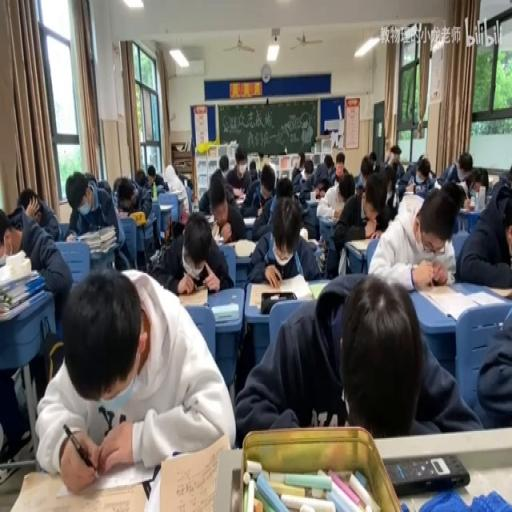calculator: (154, 432, 231, 512), (6, 468, 148, 510), (416, 283, 498, 320), (249, 273, 312, 307), (178, 283, 207, 306), (210, 300, 238, 322), (230, 238, 256, 258), (485, 283, 512, 299), (346, 238, 371, 252), (308, 282, 327, 300), (317, 212, 336, 225), (210, 219, 220, 240), (201, 213, 214, 225), (298, 226, 308, 240), (306, 238, 319, 248), (234, 195, 246, 205), (243, 216, 256, 225), (404, 184, 414, 194), (159, 204, 173, 210), (306, 198, 320, 204), (214, 235, 222, 243)
paper: (37, 262, 232, 488), (235, 270, 479, 442), (366, 178, 460, 288), (0, 196, 71, 322), (151, 209, 231, 294), (246, 195, 322, 284), (64, 170, 128, 268), (456, 178, 512, 287), (473, 302, 512, 429), (396, 154, 434, 202), (438, 149, 477, 189), (226, 145, 252, 195), (384, 162, 402, 218), (310, 155, 334, 193), (292, 155, 314, 193), (489, 166, 512, 199), (470, 166, 490, 202), (143, 164, 168, 192), (17, 186, 40, 216), (374, 202, 392, 235), (331, 152, 347, 184), (354, 159, 370, 191), (260, 165, 275, 193), (275, 176, 293, 199), (338, 175, 354, 200), (93, 172, 111, 194), (177, 170, 192, 190), (134, 168, 148, 189), (218, 155, 229, 179), (248, 158, 258, 182), (113, 176, 122, 199), (366, 151, 377, 168), (83, 171, 96, 182), (418, 168, 428, 182), (429, 179, 441, 189), (384, 150, 390, 164), (258, 151, 264, 162)
person: (384, 454, 470, 496), (195, 266, 208, 286)
